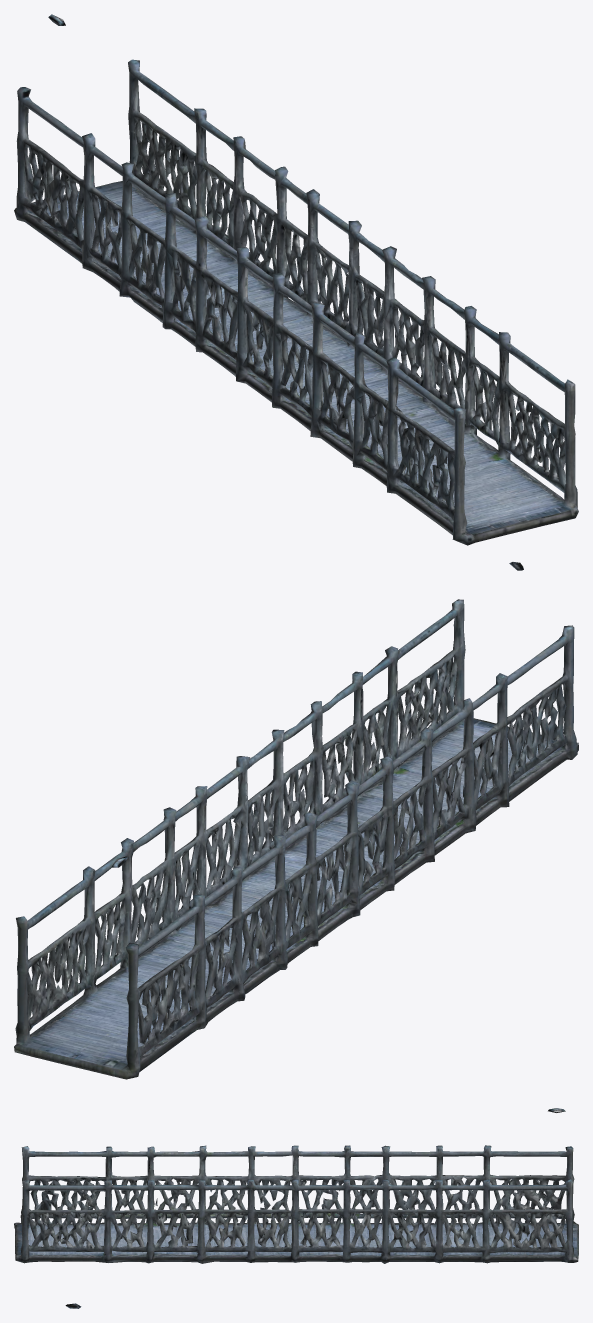
Rendered from Bridge_0125064436_texture.fbx.
The picture shows the model from 3 angles, top to bottom: view 1: azimuth 30°, elevation 25°; view 2: azimuth 150°, elevation 25°; view 3: azimuth 270°, elevation 25°; orthographic projection. The views are drawn at different scales.
Parts seen in each view (by area): view 1: Mesh1; view 2: Mesh1; view 3: Mesh1.
Boxes of the visible parts, left/top/right/bottom form: Mesh1: left=14, top=14, right=578, bottom=570; Mesh1: left=14, top=599, right=578, bottom=1079; Mesh1: left=14, top=1108, right=578, bottom=1308.
Bounding box in the file's own units: 31.97 × 69.51 × 201.
Materials: 1 (1 with a texture image).
